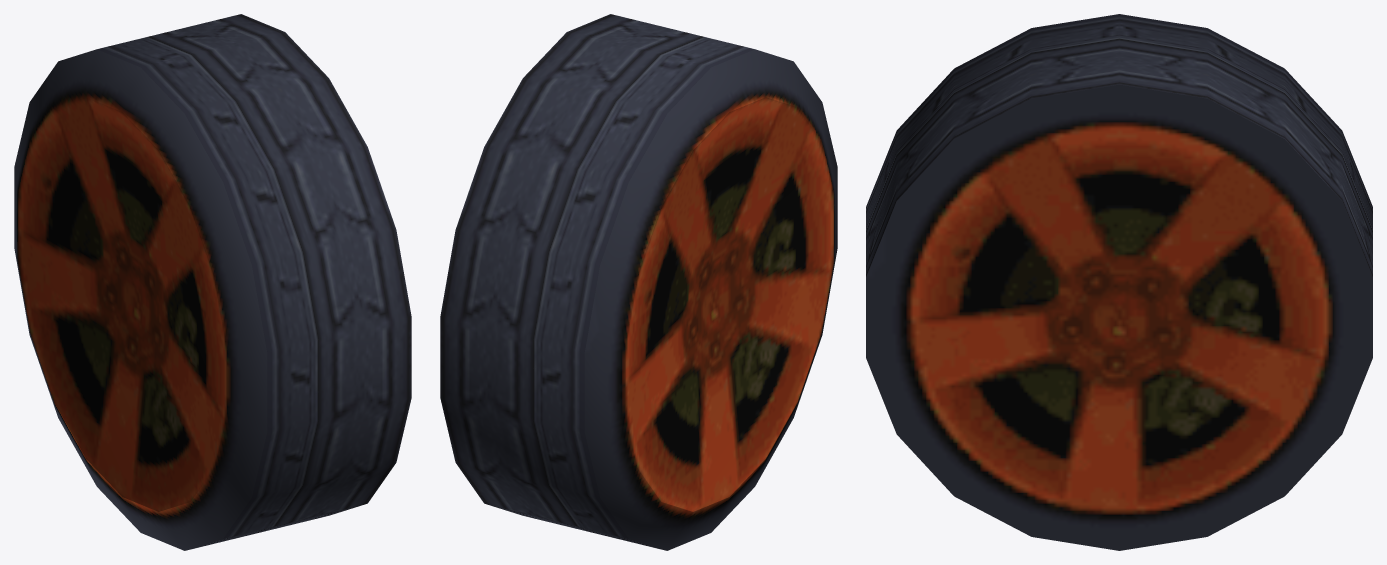
File: car_FR.FBX
3 views of the same model, side by side, from view 1: azimuth 30°, elevation 25°; view 2: azimuth 150°, elevation 25°; view 3: azimuth 270°, elevation 25° (orthographic).
Visible parts, largest first — view 1: car_FR; view 2: car_FR; view 3: car_FR.
Boxes of the visible parts, x1=… form: car_FR: x1=14, y1=14, x2=411, y2=550; car_FR: x1=440, y1=14, x2=837, y2=550; car_FR: x1=866, y1=14, x2=1372, y2=550.
Size of the model in its own units: 36.9 by 101 by 99.29.
Materials: 1 (1 with a texture image).
